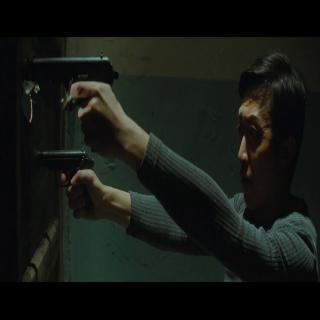gun: (30, 49, 120, 157), (32, 142, 98, 217)
